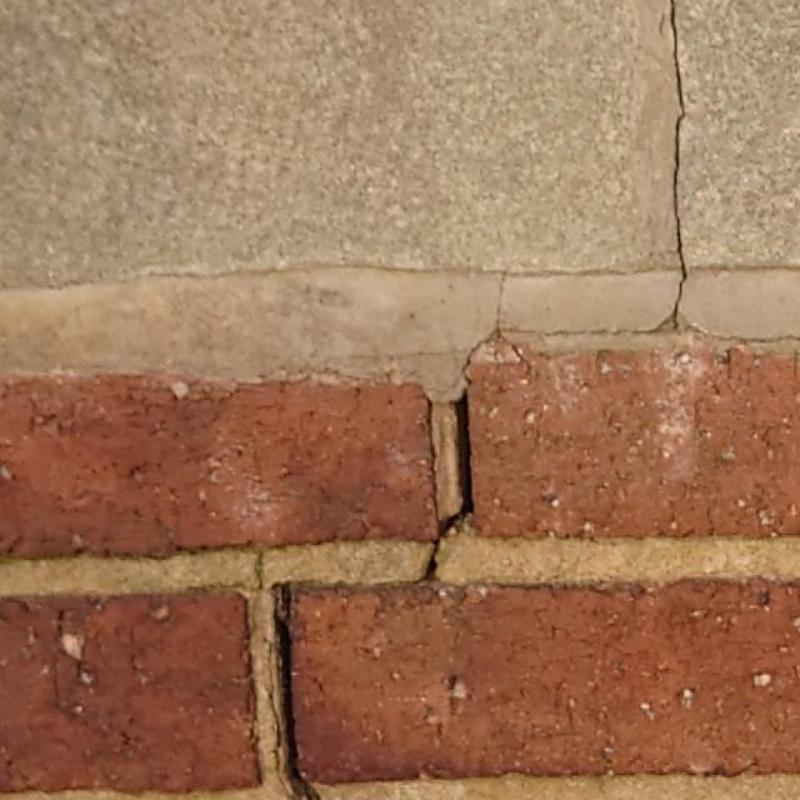pothole: (461, 0, 799, 395), (275, 588, 320, 799), (425, 394, 473, 581), (262, 636, 291, 799), (185, 548, 264, 592)
